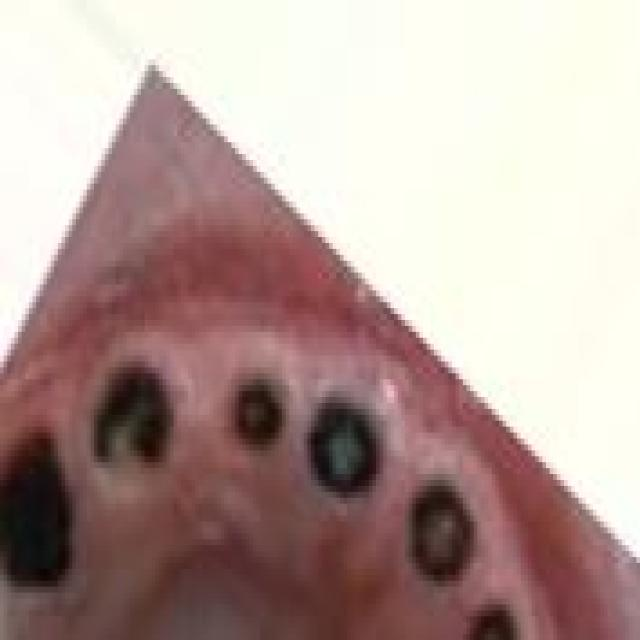caries: (0, 414, 83, 619), (82, 346, 186, 486), (292, 371, 388, 519), (391, 460, 487, 601), (218, 353, 290, 480), (454, 588, 544, 640)
